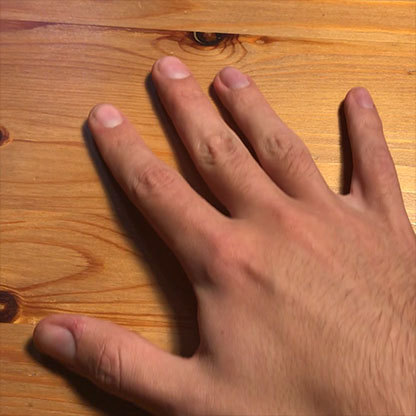fingertip: (21, 307, 81, 372), (81, 93, 134, 136), (212, 60, 258, 100), (345, 80, 384, 121), (153, 53, 196, 90)
